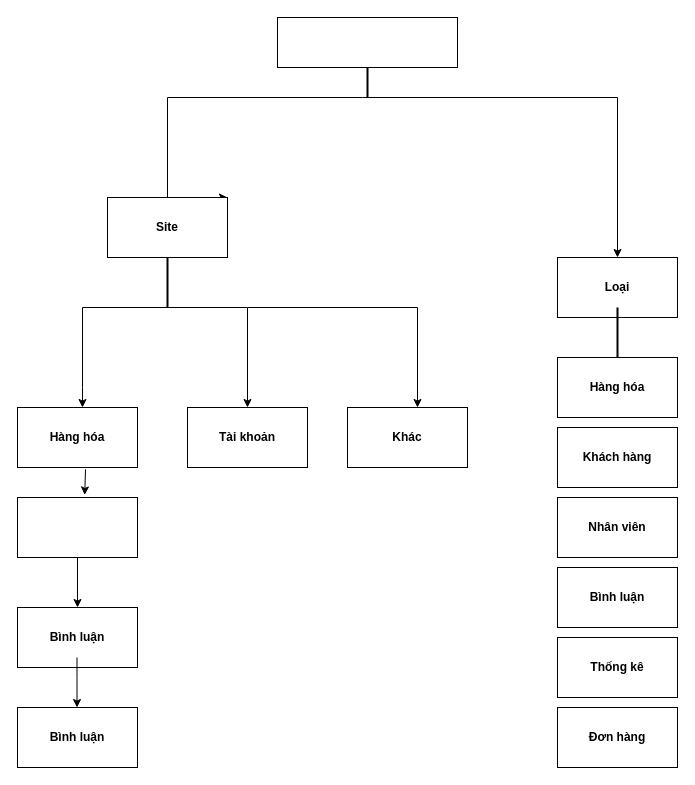
Some shapes in this 695 by 785 pixel diagram are drawn without their labels. The shapes that lost their labels are listed below. From the top down, each one's centre as x and y in pixels, then its label:
(x=367, y=42): Organic shop
(x=77, y=527): Chi tiết
